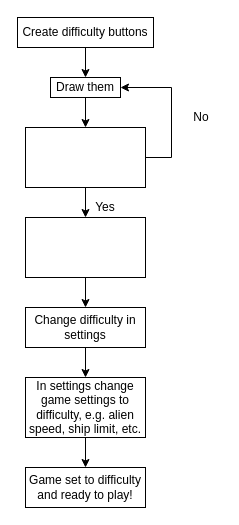
The diagram is 239 pixels wide and 525 high, and some of its shapes have lost their labels. The shapes that lost their labels are listed below. From the top down, each one's box as (x1, y1, x2, y2) in pixels, then its label:
(24, 126, 146, 188): Check if any of them have been pressed
(24, 216, 146, 278): Set difficulty chosen flag True and draw Play button
